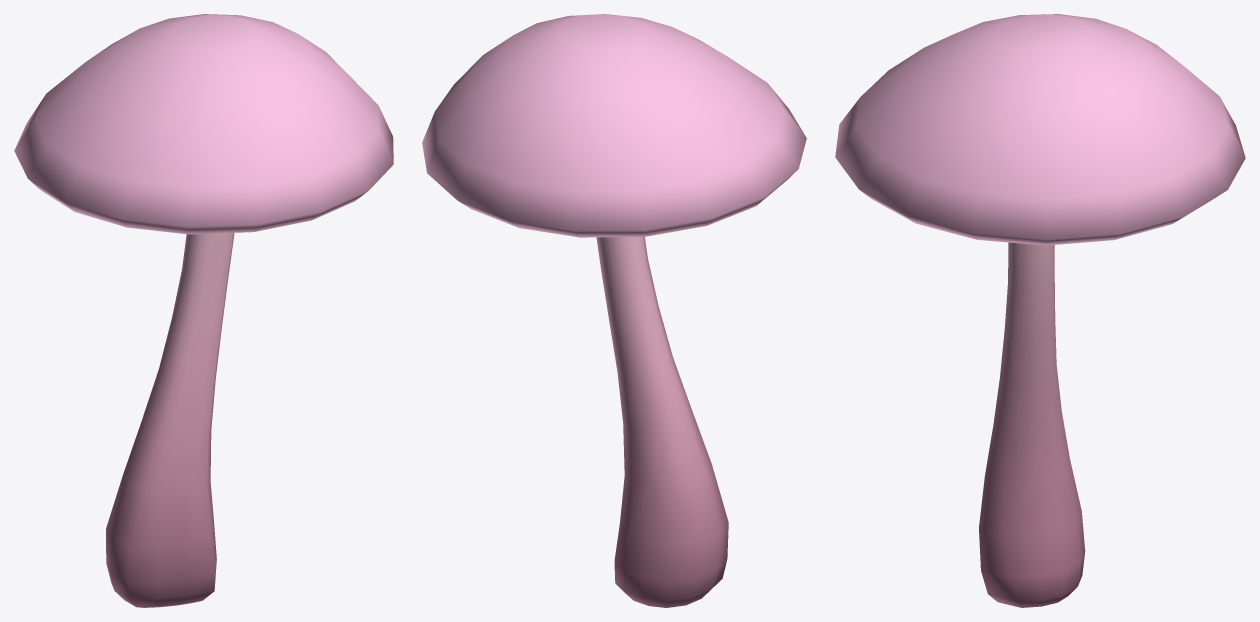
The model's file is Mushroom_0001_0026.fbx.
3 renders of one model, left to right at view 1: azimuth 30°, elevation 25°; view 2: azimuth 150°, elevation 25°; view 3: azimuth 270°, elevation 25°, orthographic. The views are drawn at different scales.
Parts seen in each view (by area): view 1: Mushroom_0001_0026; view 2: Mushroom_0001_0026; view 3: Mushroom_0001_0026.
Boxes of the visible parts, <box> form: Mushroom_0001_0026: <box>14,14,393,607</box>; Mushroom_0001_0026: <box>422,14,806,607</box>; Mushroom_0001_0026: <box>835,14,1245,607</box>.
Bounding box in the file's own units: 0.1346 × 0.2146 × 0.1346.
Materials: 1 (1 with a texture image).
